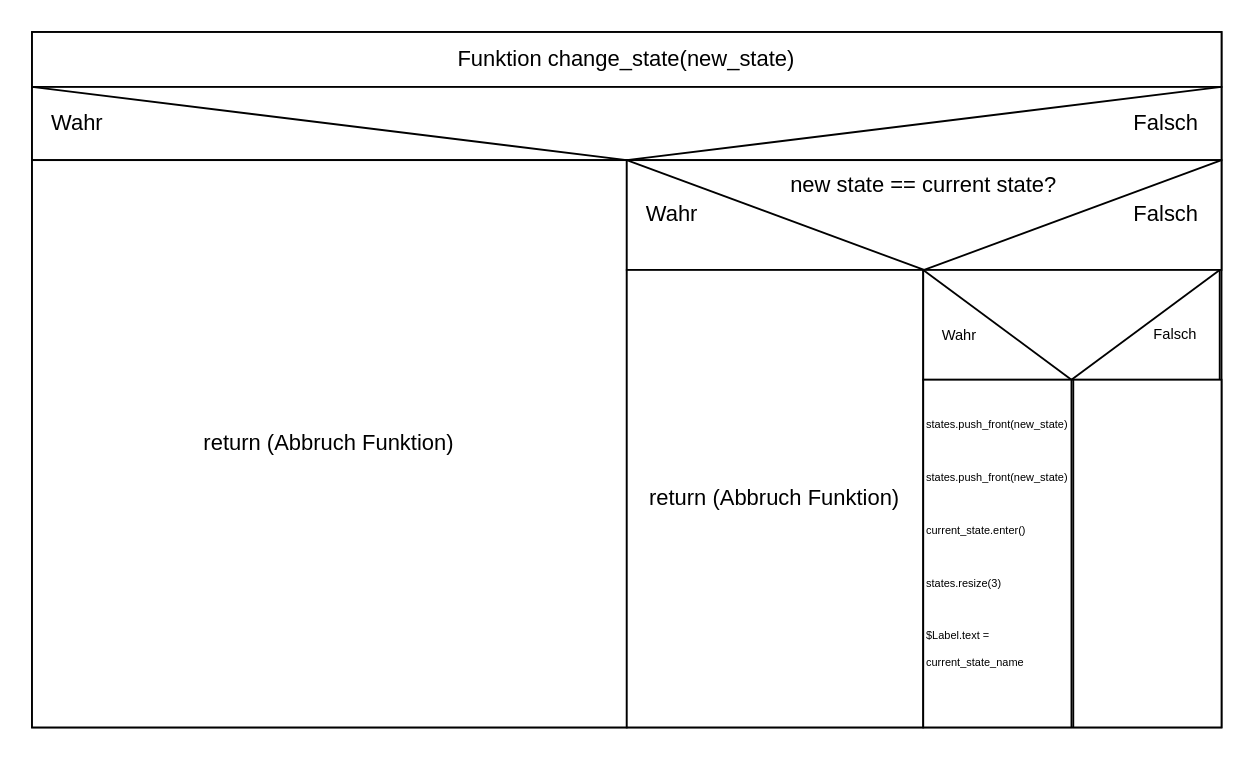
This 1255x759 diagram has some shape labels left out. Each missing label, with the box of its shape:
ist current state vorhanden?: (921, 268, 1220, 380)
new state == null?: (30, 85, 1222, 160)
